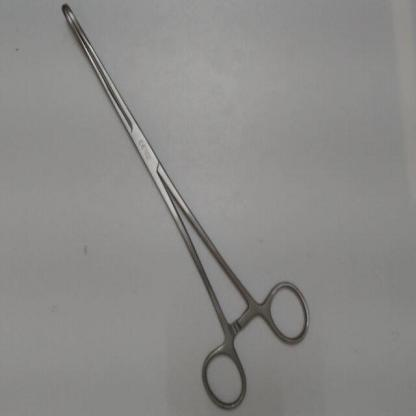Sponge Forceps: (57, 1, 315, 412)
